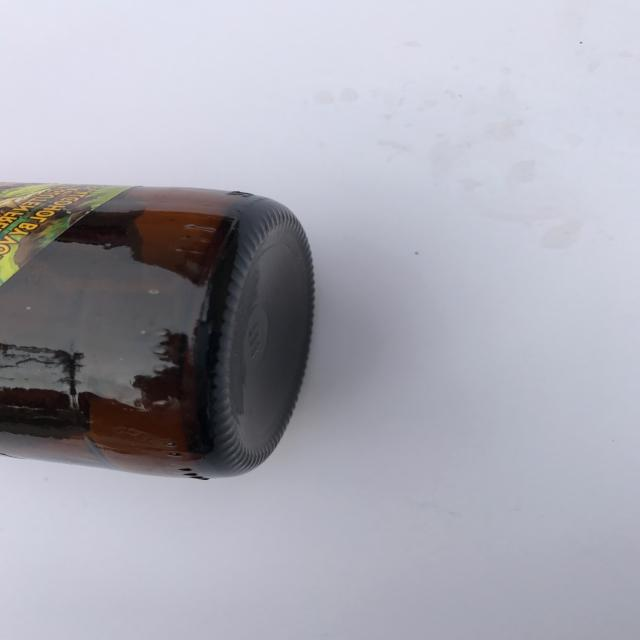glass: (0, 182, 317, 480)
